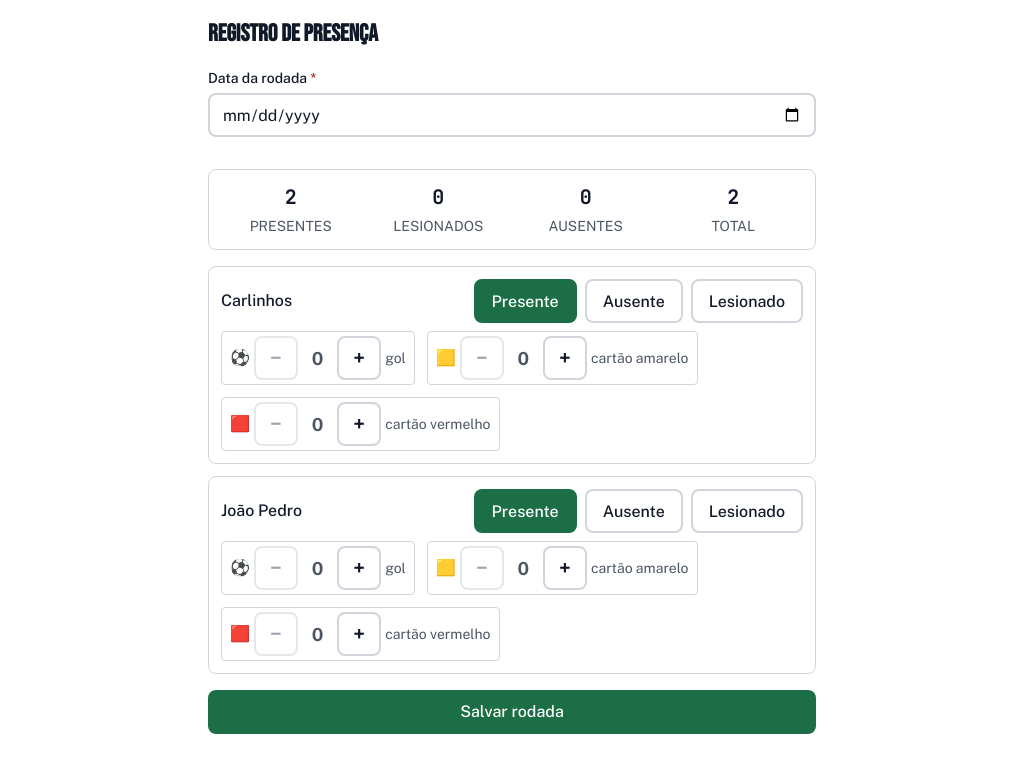
Test: LancamentoRodadaForm › sem violação de acessibilidade (axe) na lista contínua e nos dois modais
Expected: the heading "Registro de presença" is shown, [208, 19, 378, 48]
Type "2026-09-05" into the date field labelled "Data da rodada *" at (512, 115), box [208, 93, 816, 137]
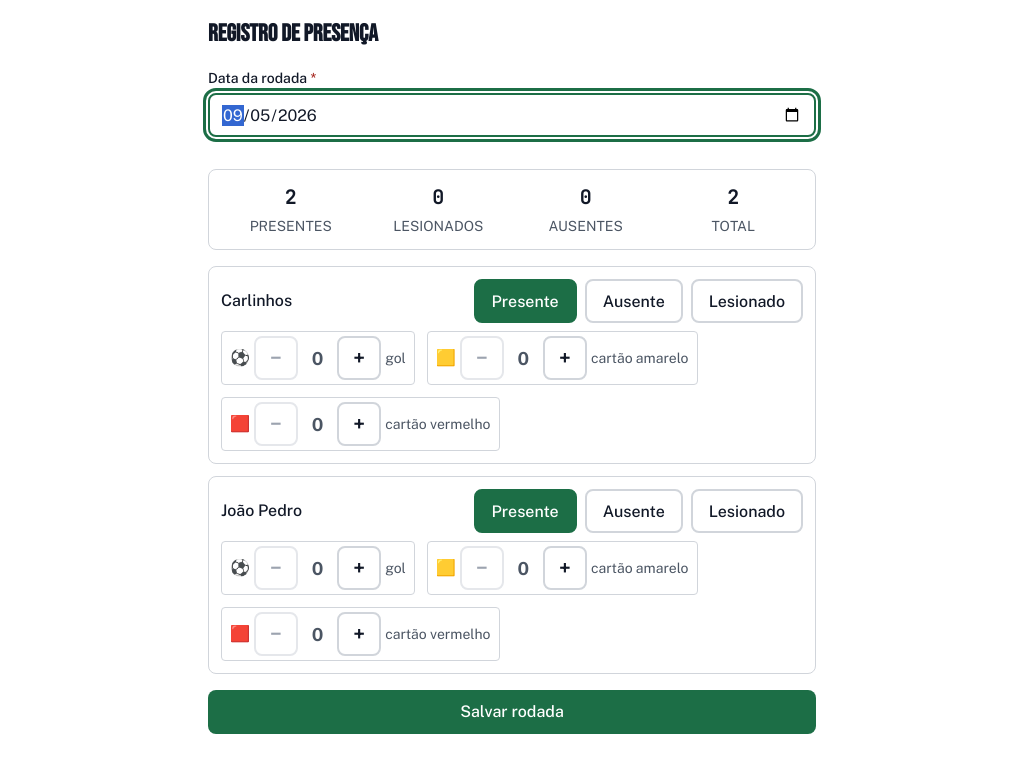
Click the button "Salvar rodada" at (512, 712), box [208, 690, 816, 734]
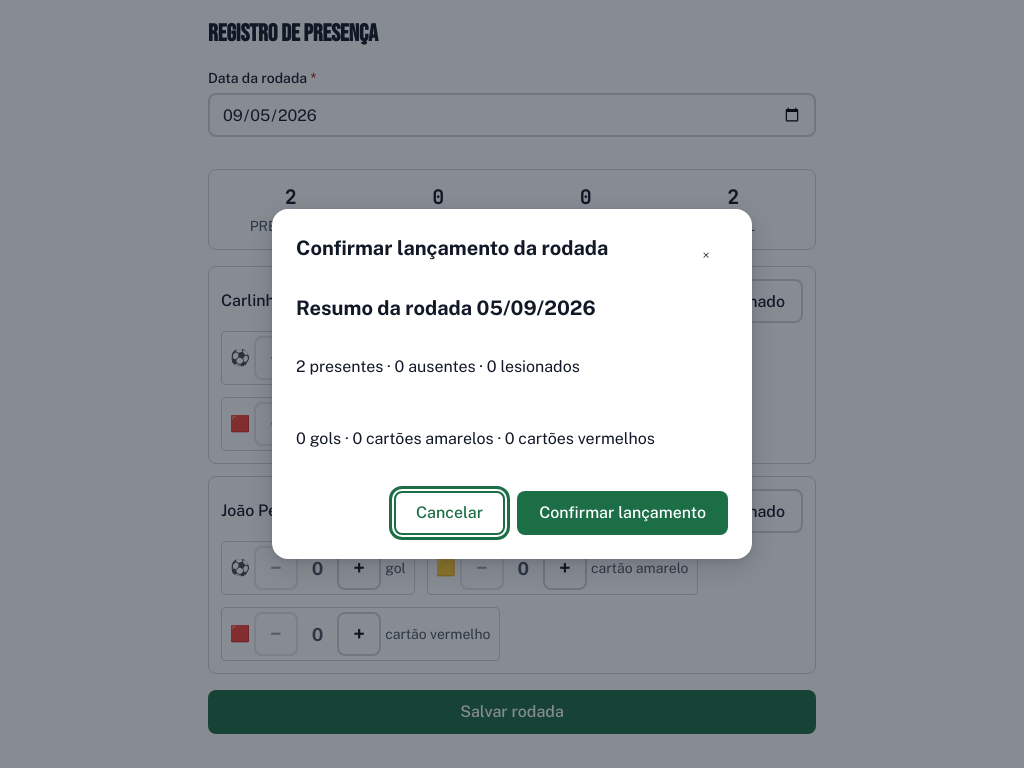
Click the button "Confirmar lançamento" at (623, 513), box [517, 491, 728, 535]
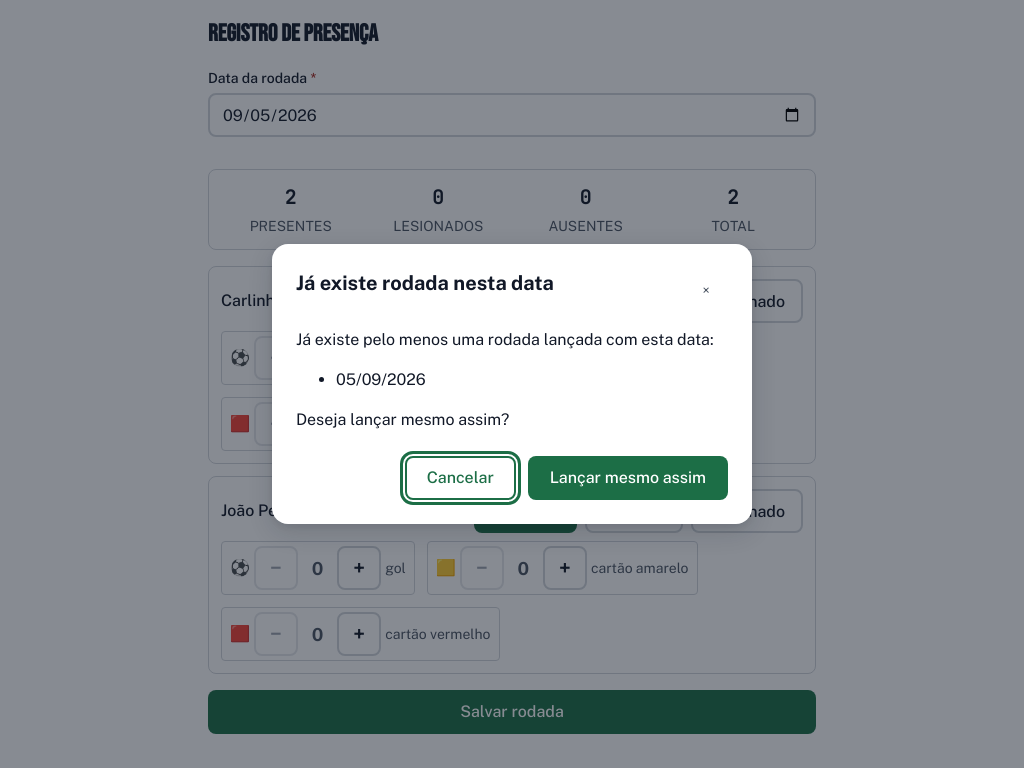
Expected: the dialog "Já existe rodada nesta data" is shown, [272, 244, 752, 524]
